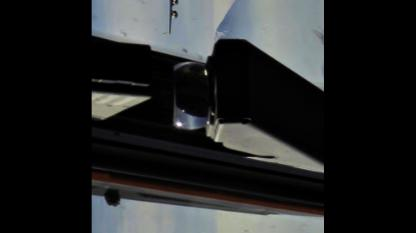C2: (146, 0, 190, 36)
